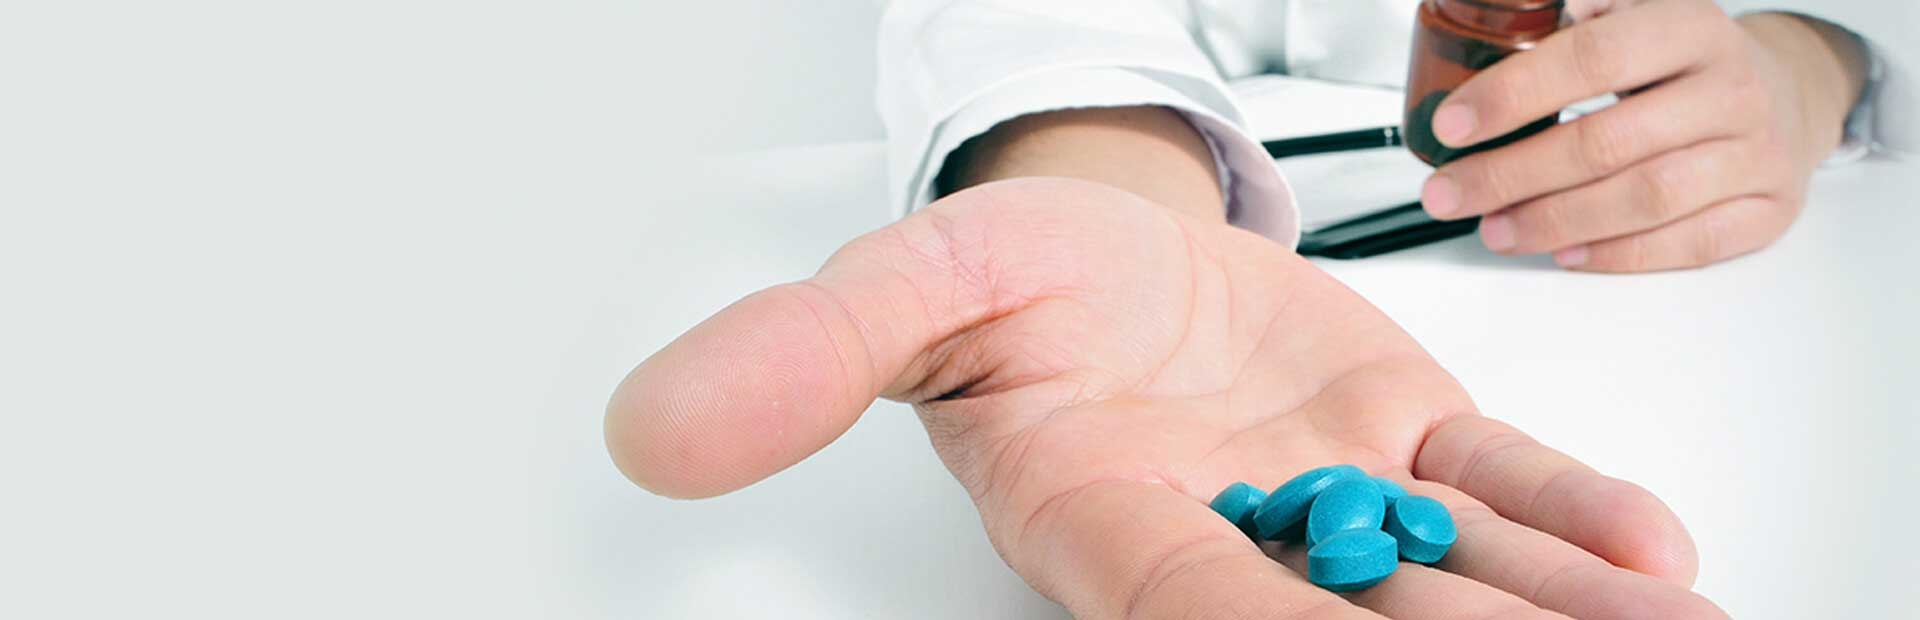pills: (1300, 524, 1416, 600), (1300, 464, 1382, 570), (1398, 475, 1467, 564)
